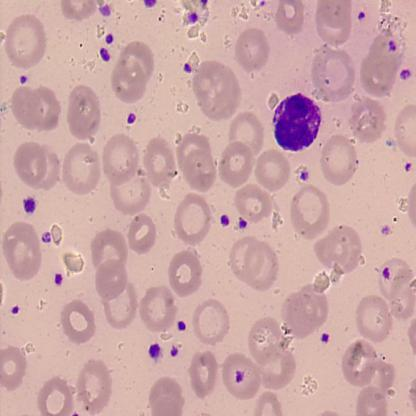Basophil: (270, 91, 324, 155)
